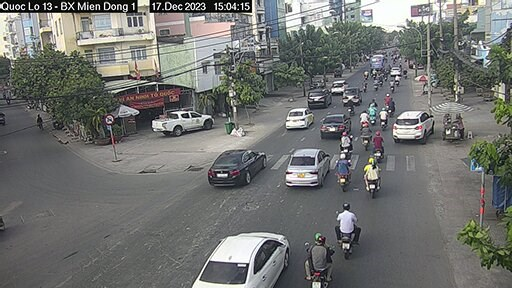car: (203, 206, 292, 288), (203, 144, 263, 194), (153, 101, 214, 143), (290, 141, 326, 198), (398, 104, 433, 146), (284, 102, 310, 146), (317, 107, 343, 143), (302, 80, 337, 105), (342, 85, 365, 113), (328, 79, 353, 90)
motorbike: (302, 231, 339, 286), (333, 198, 365, 243), (365, 155, 385, 195), (333, 147, 353, 179), (340, 129, 352, 152)
